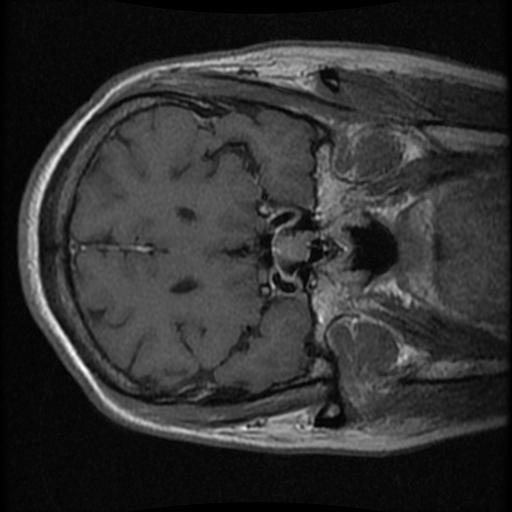pituitary tumour: (273, 233, 309, 262)
